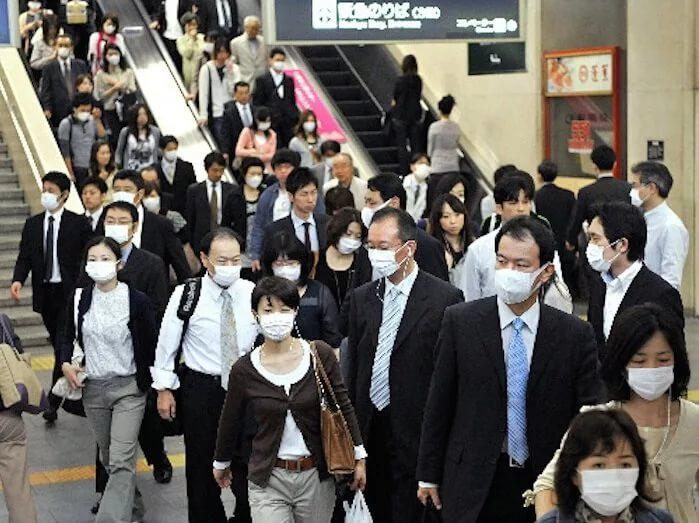mask: (578, 432, 637, 507), (627, 331, 677, 399), (498, 235, 544, 304), (585, 216, 630, 273), (369, 217, 403, 275), (260, 288, 295, 340), (85, 236, 121, 281), (211, 240, 242, 286), (628, 168, 654, 209), (104, 204, 131, 241), (37, 180, 64, 209), (117, 178, 137, 204), (81, 184, 100, 209), (366, 185, 384, 210), (73, 104, 94, 122), (245, 166, 261, 187), (104, 44, 119, 65), (96, 144, 110, 163), (167, 139, 178, 156)
none: (503, 186, 533, 225), (442, 198, 467, 237), (297, 182, 319, 211), (331, 157, 350, 183), (276, 158, 291, 179), (208, 162, 222, 180), (136, 107, 149, 126)
